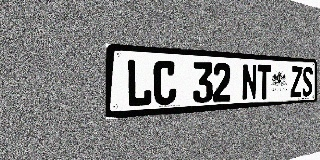2: (213, 63, 231, 102)
3: (193, 62, 213, 104)
C: (153, 60, 176, 106)
L: (126, 59, 152, 108)
N: (242, 64, 257, 100)
S: (302, 67, 313, 97)
T: (257, 65, 271, 100)
Z: (291, 66, 302, 97)
